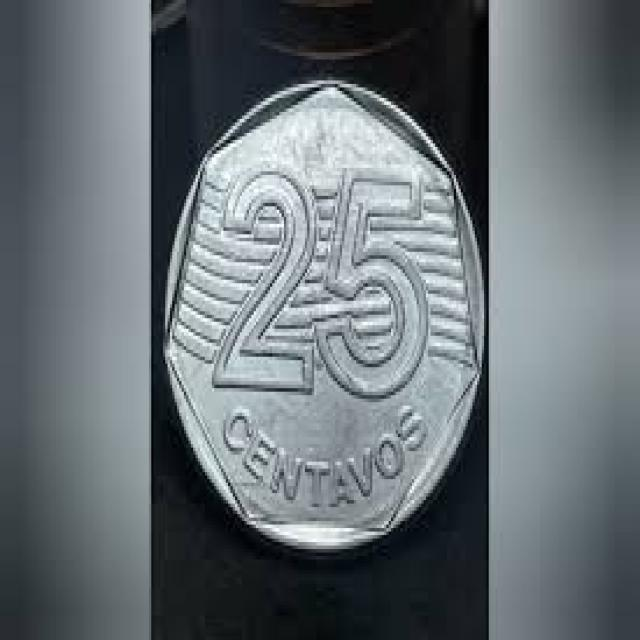25 cent: (157, 74, 485, 521)
